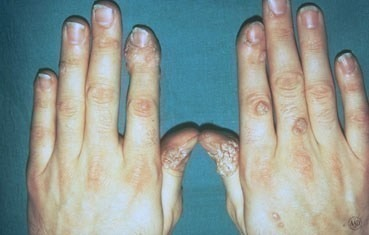Warts: (123, 22, 165, 81), (233, 20, 268, 77), (207, 136, 238, 181), (161, 133, 188, 177), (288, 113, 313, 142), (251, 96, 270, 122)
